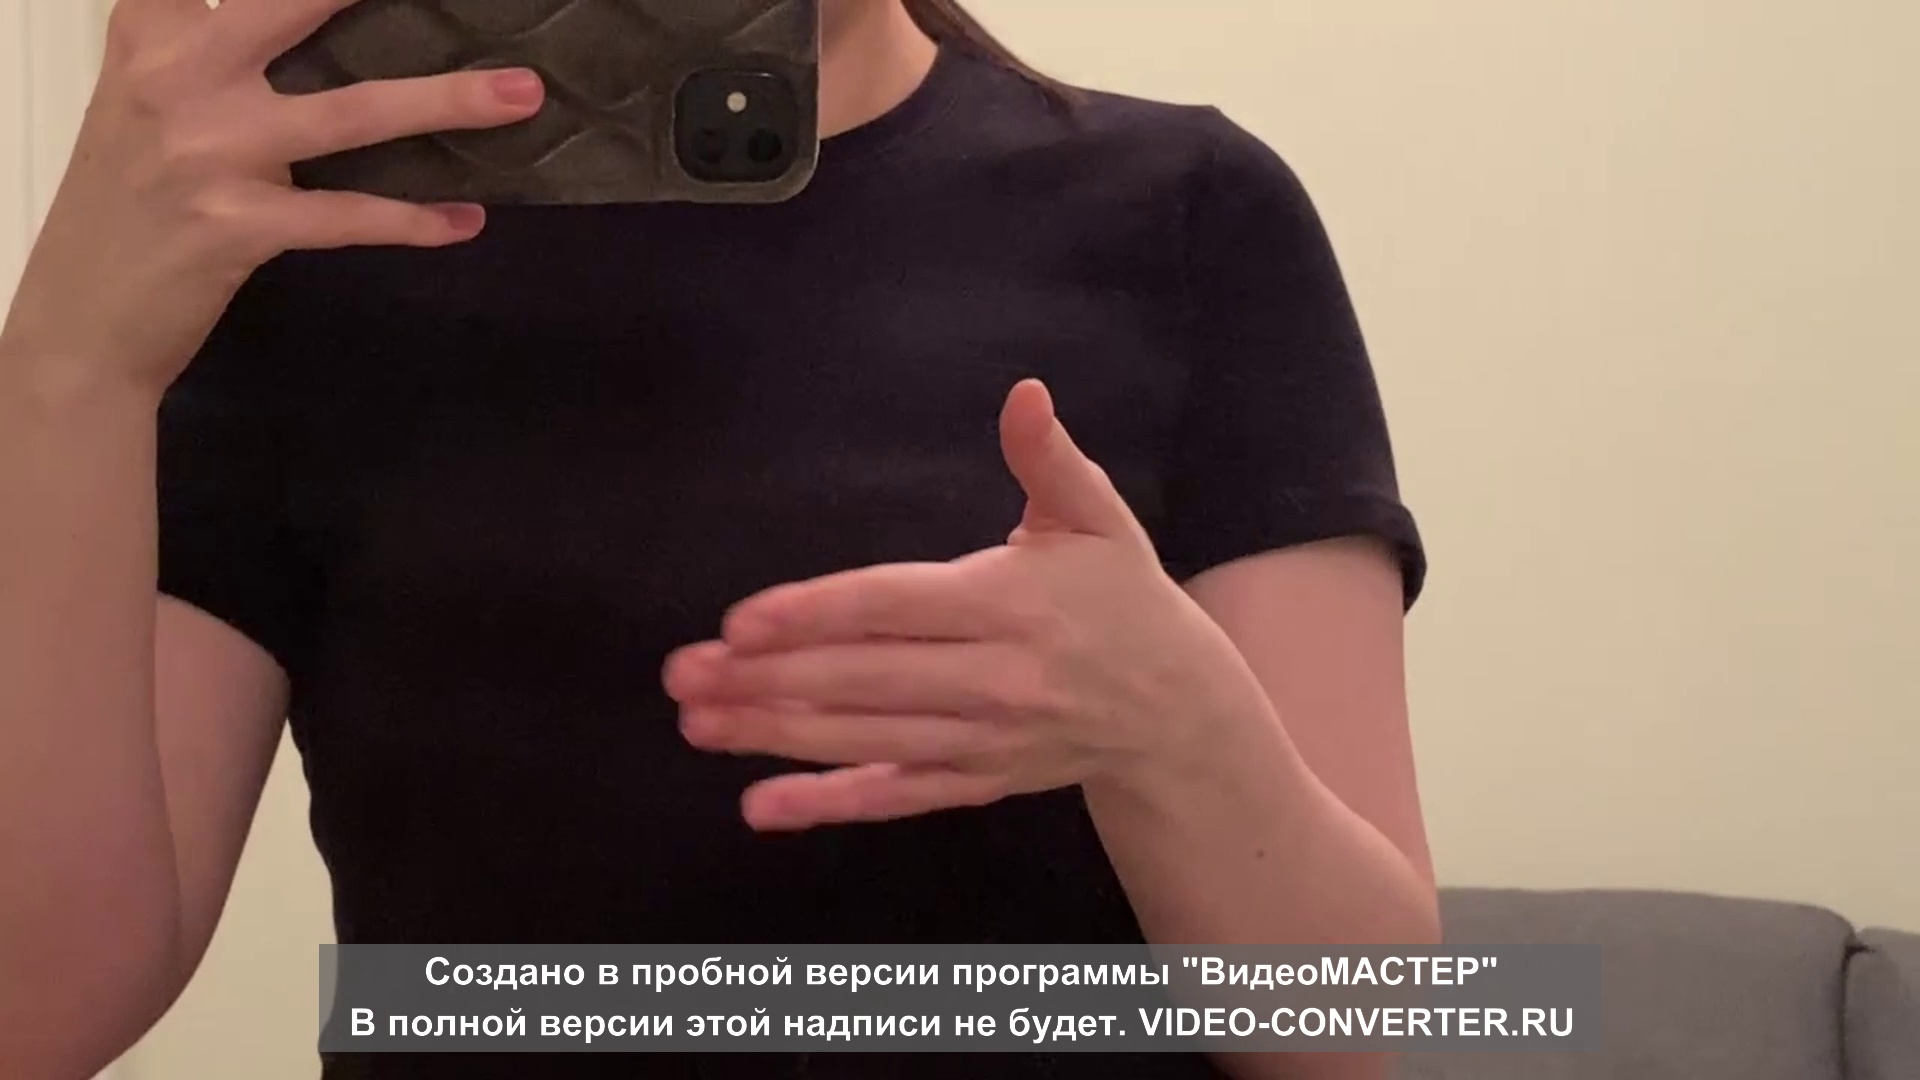Кисть: (659, 376, 1184, 828)
